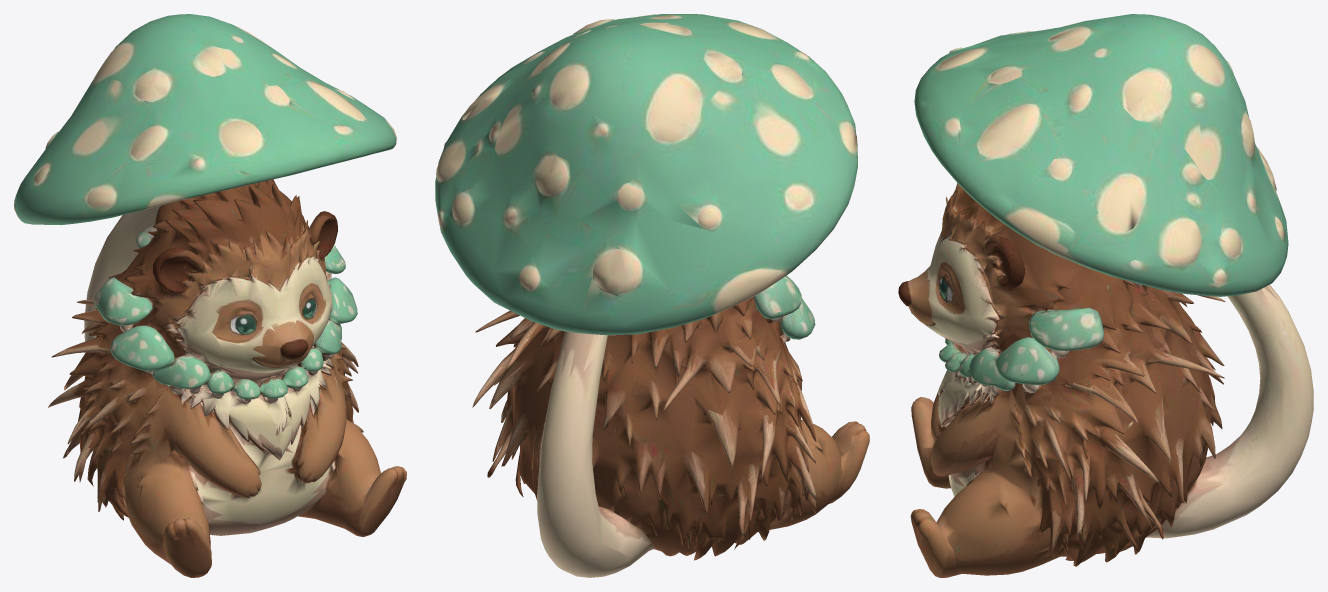
3 renders of one model, left to right at view 1: azimuth 30°, elevation 25°; view 2: azimuth 150°, elevation 25°; view 3: azimuth 270°, elevation 25°, orthographic. The views are drawn at different scales.
Parts seen in each view (by area): view 1: Mesh_0; view 2: Mesh_0; view 3: Mesh_0.
Boxes of the visible parts, bbox=[...] form: Mesh_0: bbox=[14, 14, 406, 577]; Mesh_0: bbox=[435, 14, 869, 577]; Mesh_0: bbox=[898, 14, 1313, 577].
Bounding box in the file's own units: 1.46 × 1.9 × 1.42.
1 material, 1 textured.
